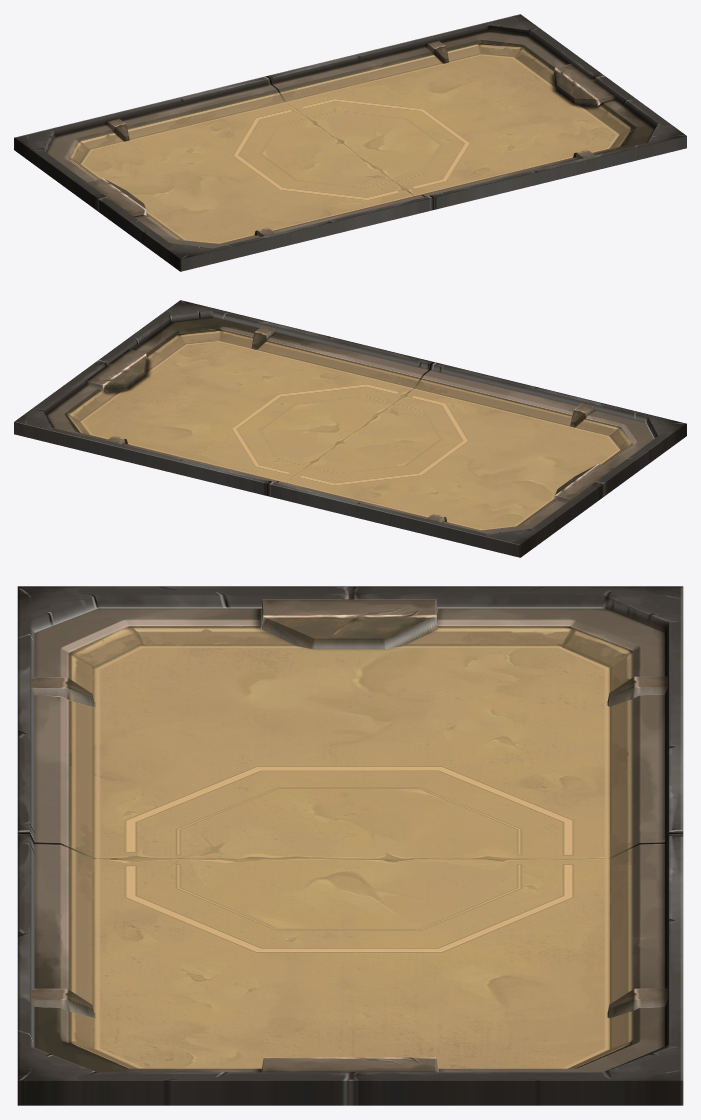
Rendered from battlefield_01.FBX.
The picture shows the model from 3 angles, top to bottom: view 1: azimuth 30°, elevation 25°; view 2: azimuth 150°, elevation 25°; view 3: azimuth 270°, elevation 25°; orthographic projection. The views are drawn at different scales.
Visible parts, largest first — view 1: battleground_01; view 2: battleground_01; view 3: battleground_01.
Boxes of the visible parts, x1,y1,x2,y2 form: battleground_01: [14, 14, 686, 271]; battleground_01: [14, 300, 686, 557]; battleground_01: [17, 586, 683, 1105].
Bounding box in the file's own units: 25.13 × 0.697 × 14.3.
Materials: 1 (1 with a texture image).
